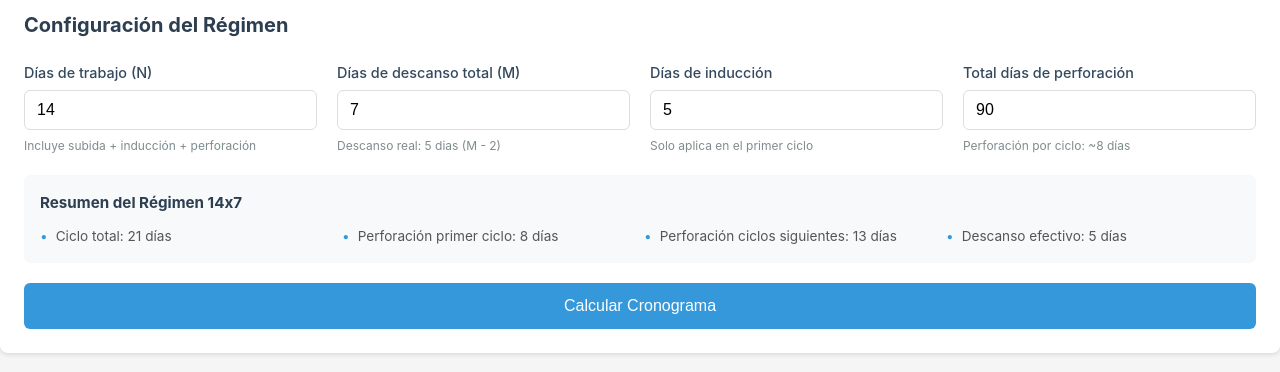
Test: ConfigForm › should update summary when values change
Replace the text in the number field labelled "Días de trabajo (N)" with "21": {"x": 170, "y": 110} [24,90,317,130]
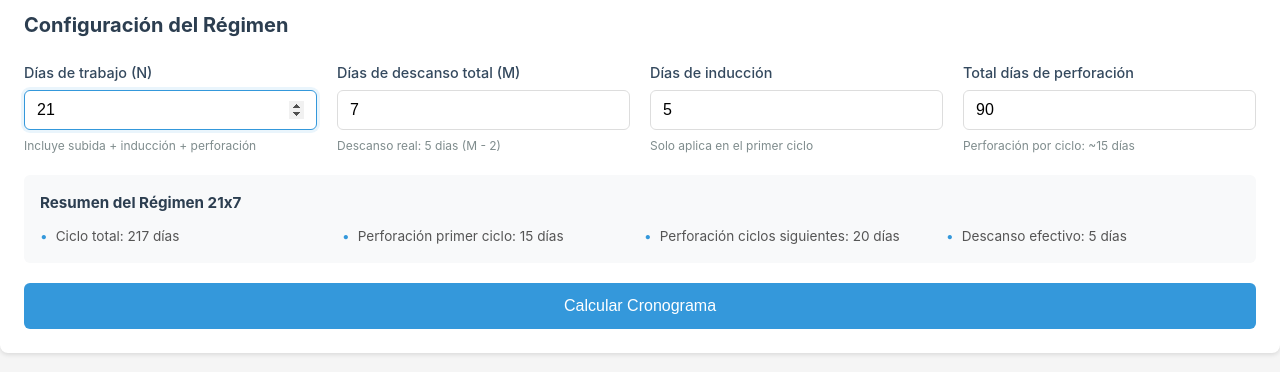
Now the heading "Resumen del Régimen 21x7" is shown, box [40,193,241,212]
